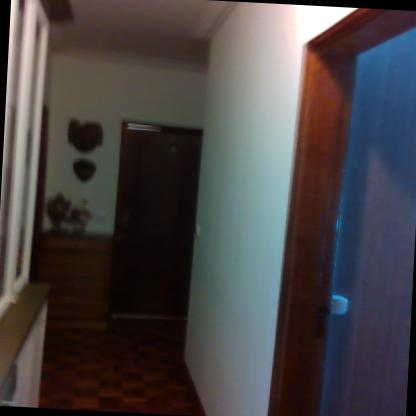closed: (96, 113, 214, 326)
